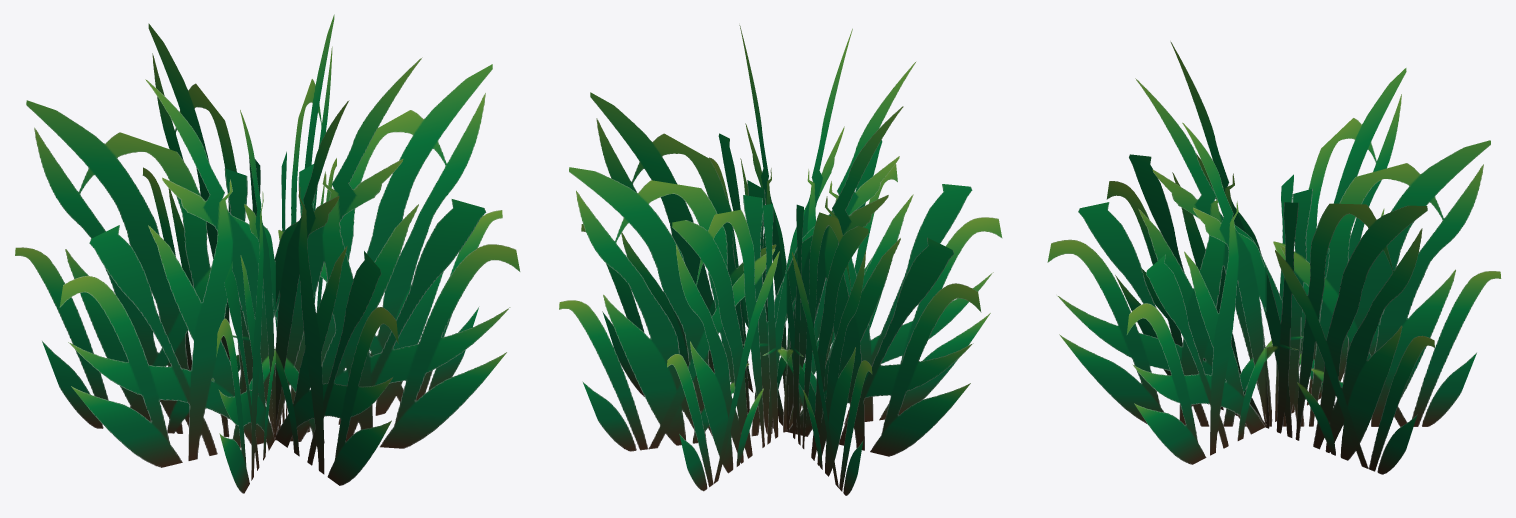
Rendered from SM_Grass_(Fix).fbx.
3 views of the same model, side by side, from view 1: azimuth 30°, elevation 25°; view 2: azimuth 150°, elevation 25°; view 3: azimuth 270°, elevation 25° (orthographic). The views are drawn at different scales.
Parts seen in each view (by area): view 1: Grass_Mash; view 2: Grass_Mash; view 3: Grass_Mash.
Boxes of the visible parts, x1,y1,x2,y2 form: Grass_Mash: [15, 14, 520, 493]; Grass_Mash: [559, 25, 1002, 495]; Grass_Mash: [1047, 41, 1501, 474].
Bounding box in the file's own units: 0.0821 × 0.0698 × 0.0821.
